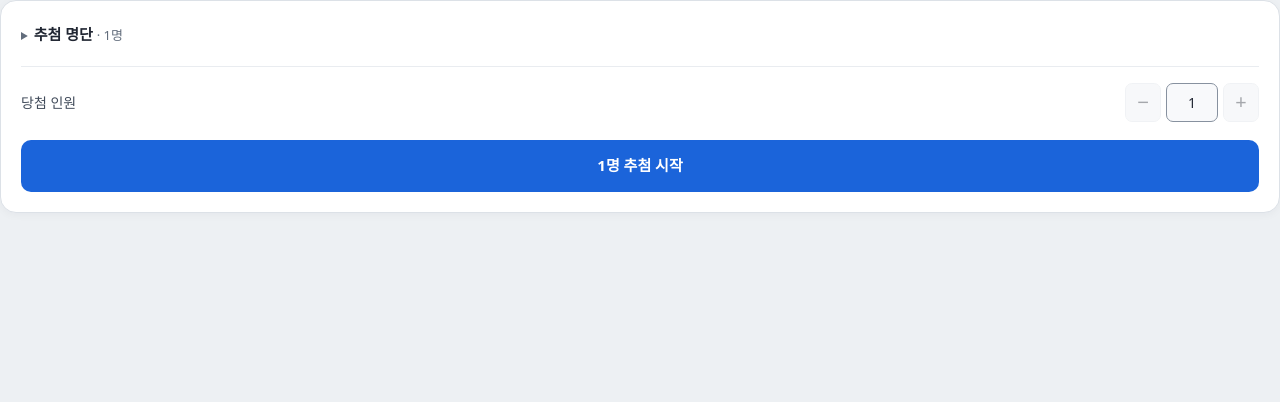
it: LotterySettingsPanel › removes names but prevents saving or starting an empty draft
Click the heading "추첨 명단 · 1명" at (78, 34), box [34, 24, 123, 44]
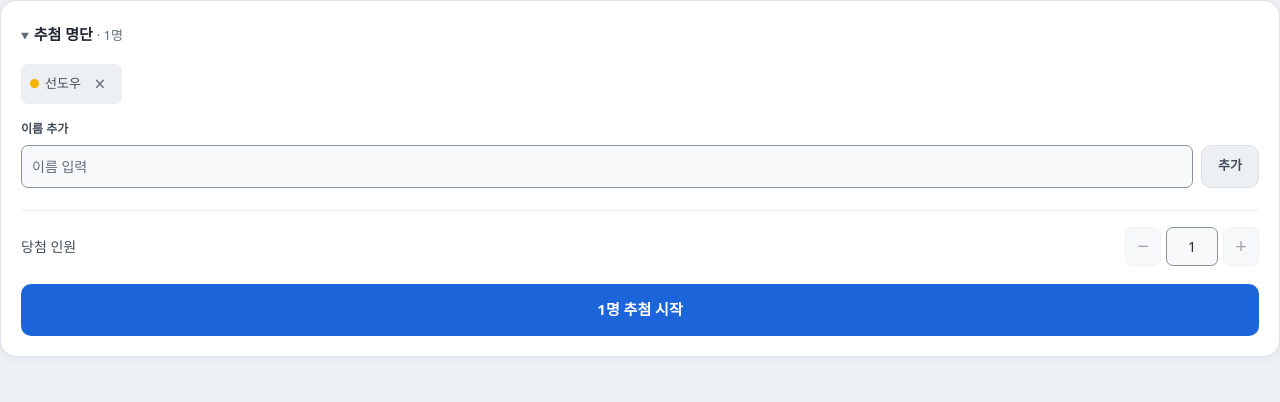
Click the button named "선도우 명단에서 빼기" at (100, 84), box [87, 70, 113, 98]
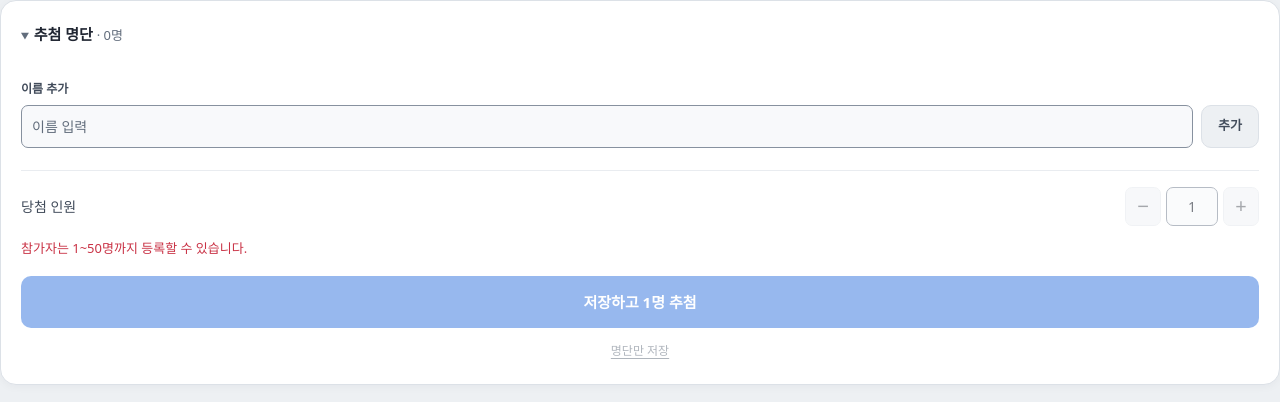
Check: the message shows "1~50명", box [21, 238, 247, 256]
Check: the button "명단만 저장" is disabled, box [603, 338, 677, 364]
Check: the button "저장하고 1명 추첨" is disabled, box [21, 276, 1259, 328]
